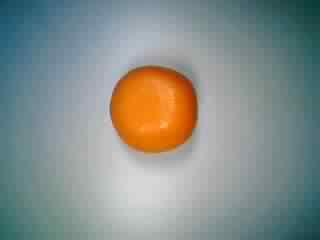orange: (102, 60, 203, 157)
